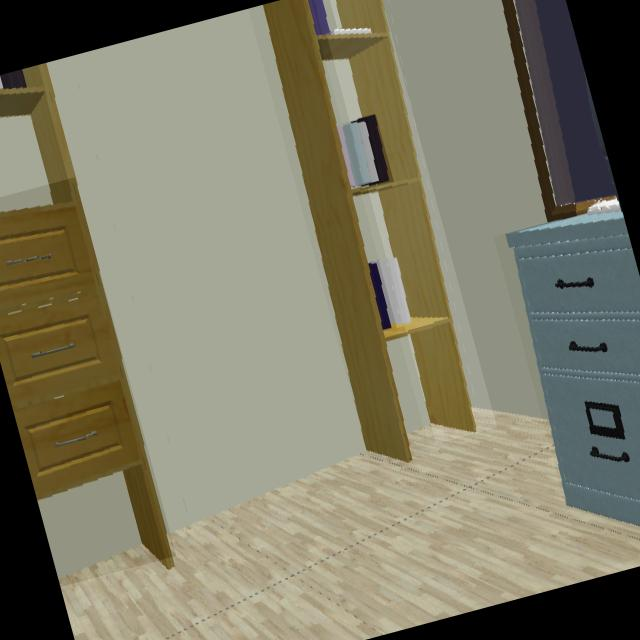book: (336, 116, 390, 190), (377, 260, 410, 323), (315, 0, 332, 32)
cabinet: (0, 179, 169, 559), (507, 211, 640, 528)
shelf: (262, 0, 411, 463), (336, 0, 475, 433)
